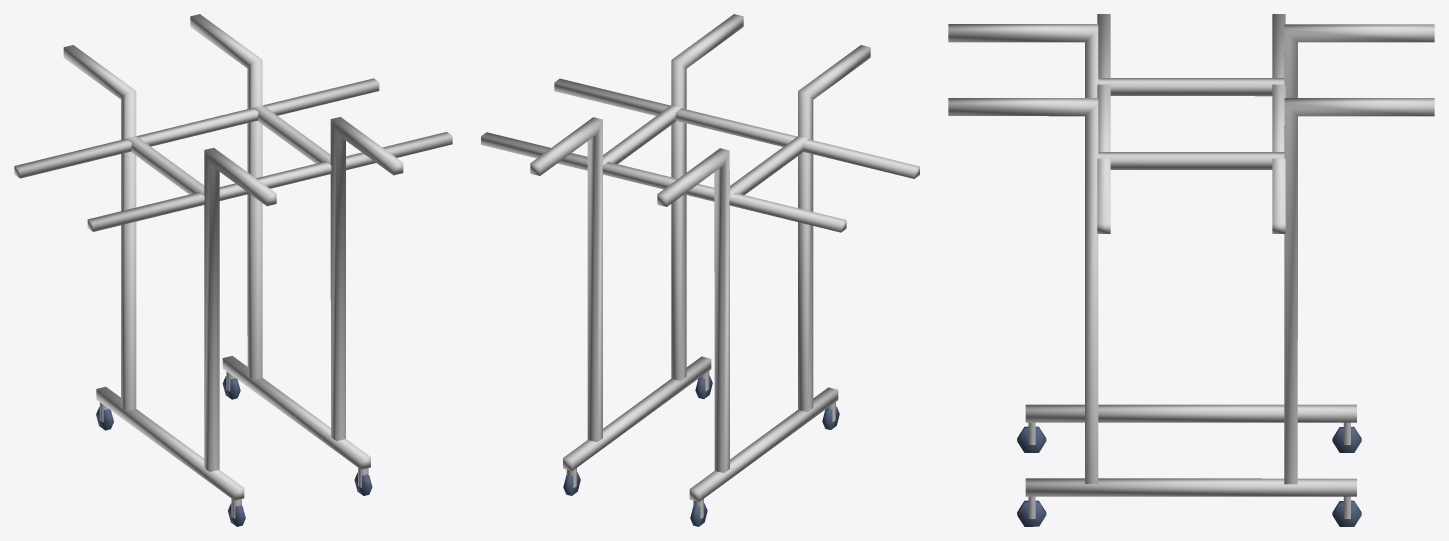
Rendered from hanger2.fbx.
3 views of the same model, side by side, from view 1: azimuth 30°, elevation 25°; view 2: azimuth 150°, elevation 25°; view 3: azimuth 270°, elevation 25° (orthographic). The views are drawn at different scales.
Visible parts, largest first — view 1: hanger2; view 2: hanger2; view 3: hanger2.
Boxes of the visible parts, box(x1,y1,x2,y2) form: hanger2: box(14, 14, 452, 526); hanger2: box(481, 14, 919, 526); hanger2: box(948, 14, 1434, 526).
Size of the model in its own units: 3.45 by 3.26 by 3.39.
